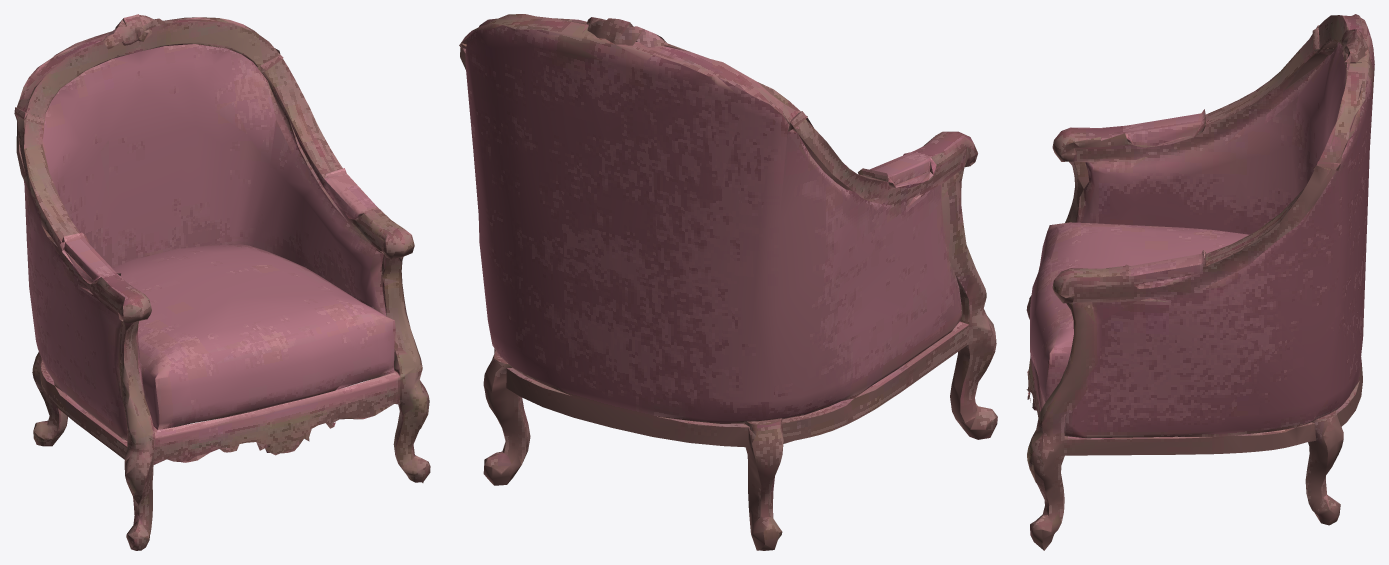
The model's file is wingback.glb.
The picture shows the model from 3 angles, left to right: view 1: azimuth 30°, elevation 25°; view 2: azimuth 150°, elevation 25°; view 3: azimuth 270°, elevation 25°; orthographic projection. The views are drawn at different scales.
Visible parts, largest first — view 1: wingback_src; view 2: wingback_src; view 3: wingback_src.
Boxes of the visible parts, x1=… form: wingback_src: x1=14, y1=14, x2=430, y2=550; wingback_src: x1=459, y1=14, x2=997, y2=550; wingback_src: x1=1026, y1=14, x2=1374, y2=550.
Size of the model in its own units: 1.05 by 1.32 by 0.9486.
1 material, 1 textured.
